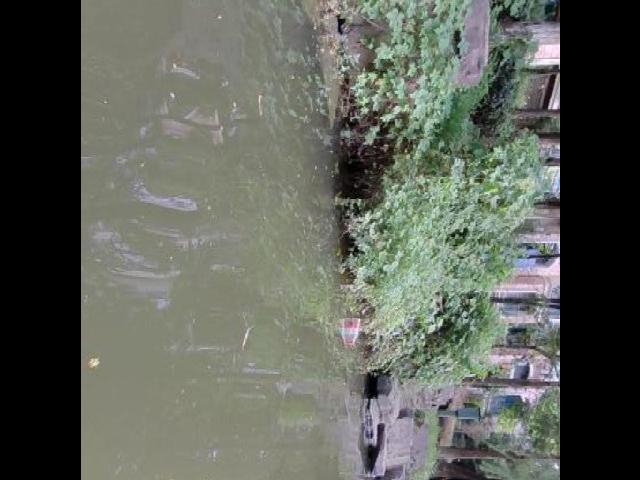Bottle: (342, 310, 366, 354)
